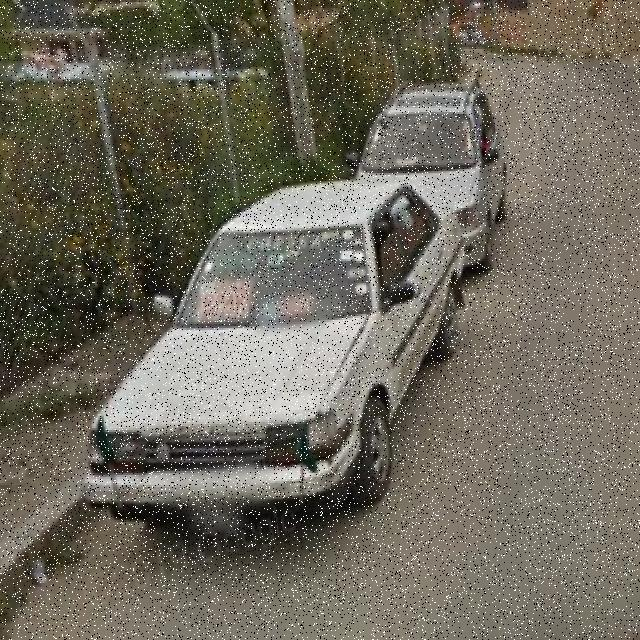cars: (44, 175, 497, 559)
